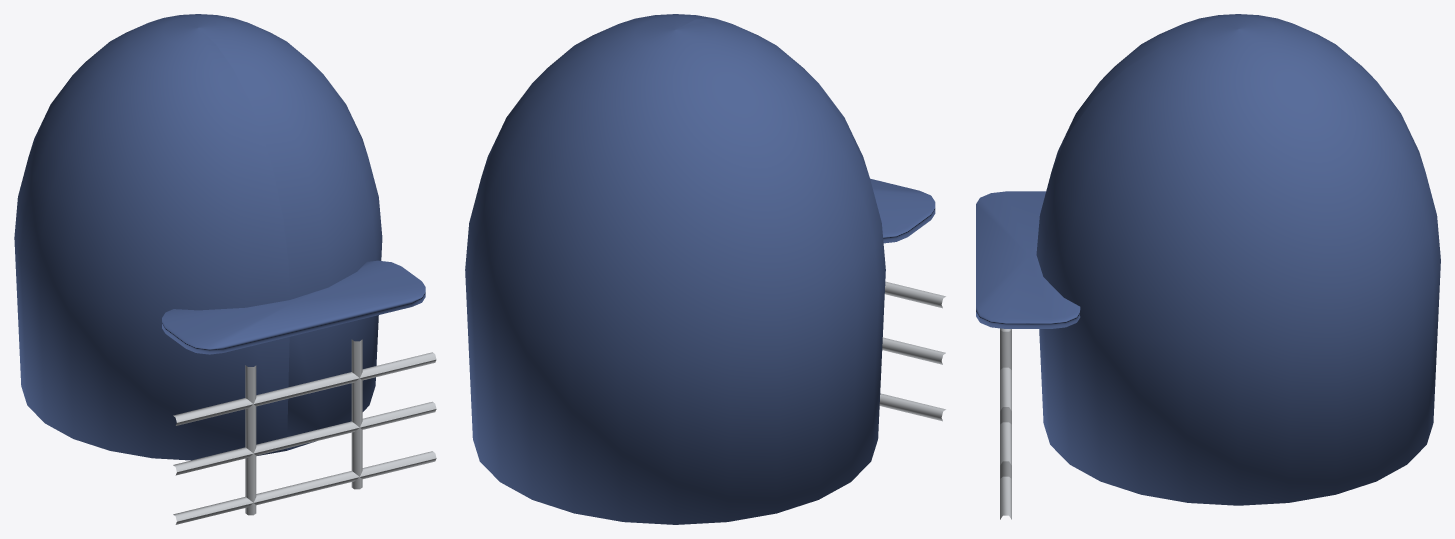
The model's file is helmet.glb.
3 renders of one model, left to right at view 1: azimuth 30°, elevation 25°; view 2: azimuth 150°, elevation 25°; view 3: azimuth 270°, elevation 25°, orthographic. The views are drawn at different scales.
Visible parts, largest first — view 1: helmet; view 2: helmet; view 3: helmet.
Boxes of the visible parts, x1,y1,x2,y2 form: helmet: (14, 14, 436, 524); helmet: (465, 14, 945, 524); helmet: (976, 14, 1440, 519).
Size of the model in its own units: 0.27 by 0.32 by 0.31.
